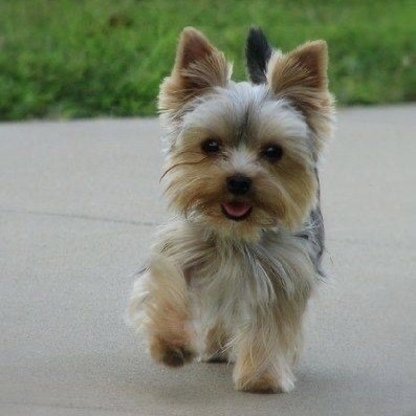yorkshire: (128, 22, 338, 389)
